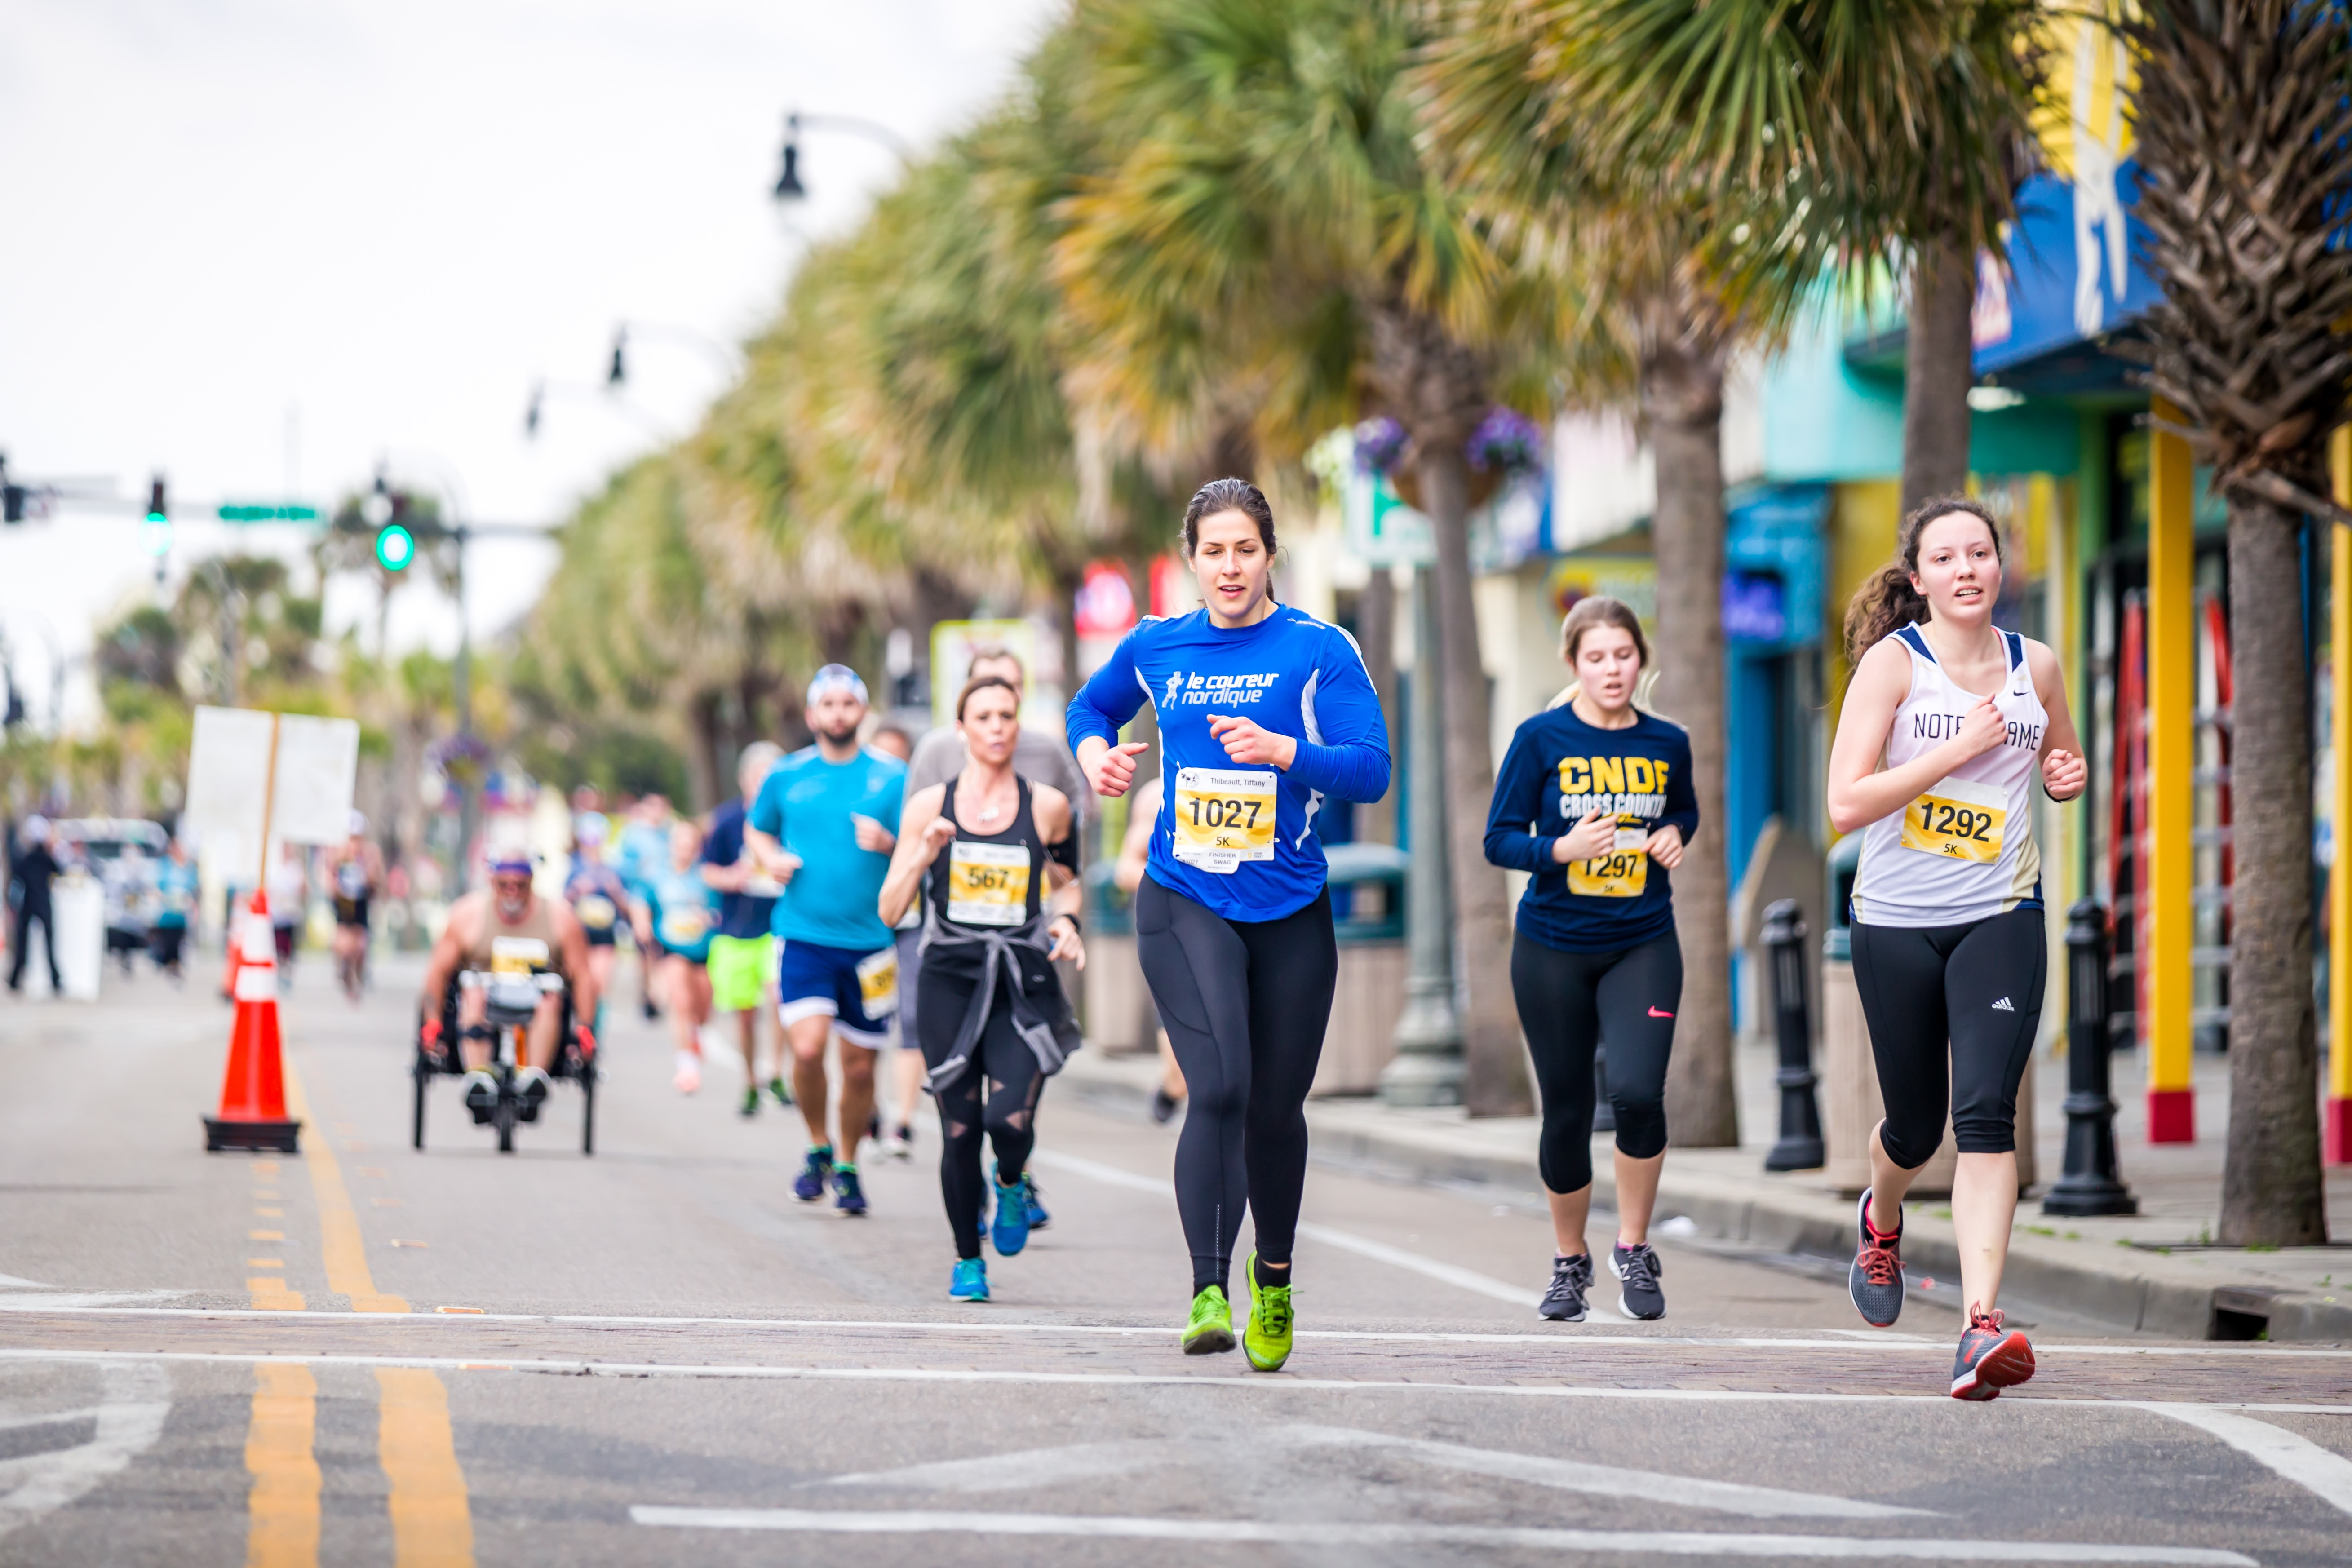person: (1067, 483, 1390, 1383), (1819, 506, 2094, 1396), (1502, 594, 1699, 1320), (879, 679, 1079, 1295)
